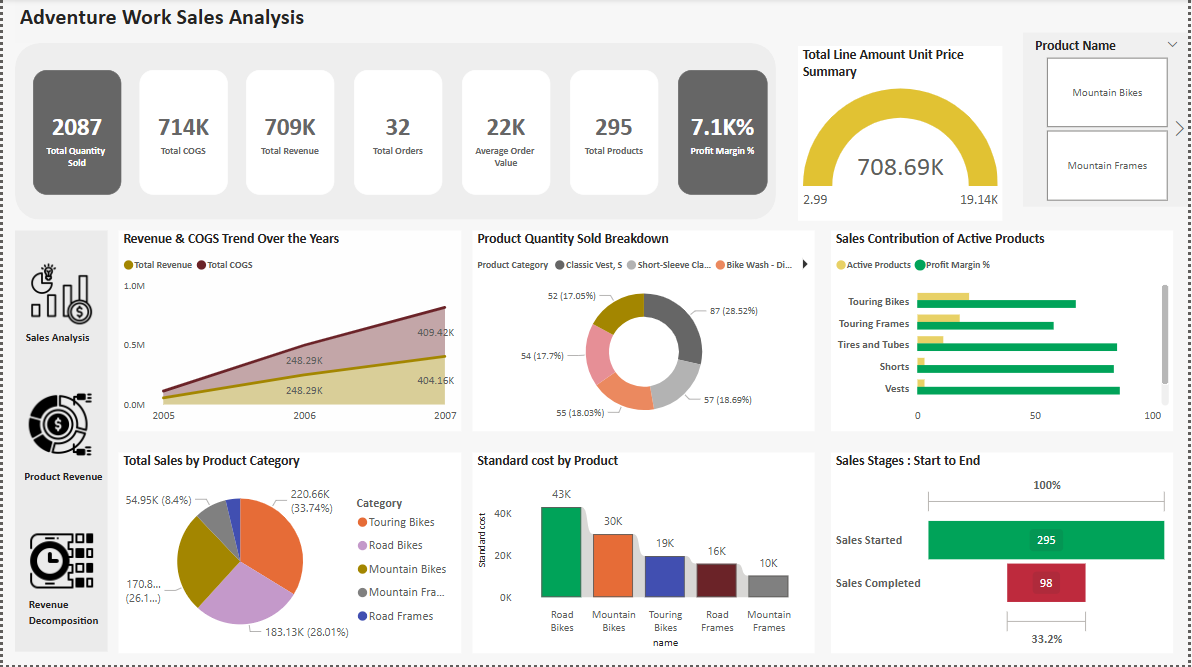

The page's visual inventory and layout, read from the dashboard file:
{"tool":"powerbi","page":{"name":"Sales Analysis","canvas":[1280,720],"ordinal":0},"visuals":[{"type":"shape","box":[13.5,48.7,821.5,190.8],"z":0},{"type":"card","title":"Total Quantity Sold","fields":{"Values":["Sales Order Detail.Total Quantity Sold"]},"box":[32.6,77.9,95.3,134.9],"z":1000},{"type":"card","title":"Total Quantity Sold","fields":{"Values":["Sales Order Detail.Total COGS"]},"box":[146.6,78.3,95,134.5],"z":2000},{"type":"card","title":"Total Quantity Sold","fields":{"Values":["Sales Order Detail.Total Revenue"]},"box":[262.6,78.3,95.3,134.5],"z":3000},{"type":"card","title":"Total Quantity Sold","fields":{"Values":["Sales Order Detail.Total Orders"]},"box":[378.9,78.3,95.3,134.5],"z":4000},{"type":"card","title":"Total Quantity Sold","fields":{"Values":["Sales Order Detail.Average Order Value"]},"box":[495.3,78.3,95.3,134.5],"z":5000},{"type":"card","title":"Total Quantity Sold","fields":{"Values":["Sales Order Detail.Profit Margin %"]},"box":[727.9,77.9,96.5,134.9],"z":6000},{"type":"textbox","box":[13.5,0,393.8,48.7],"z":7000},{"type":"donutChart","title":"Product Quantity Sold Breakdown","fields":{"Category":["product.name"],"Y":["Sales Order Detail.Total Quantity Sold"]},"box":[506.2,251.7,369.5,216.5],"z":8000},{"type":"card","title":"Total Quantity Sold","fields":{"Values":["Sales Order Detail.Total Products"]},"box":[611.6,78.3,95.3,134.5],"z":9000},{"type":"stackedAreaChart","title":"Revenue & COGS Trend Over the Years","fields":{"Category":["product.sell_start_date.Variation.Date Hierarchy.Year","product.sell_start_date.Variation.Date Hierarchy.Month"],"Y":["Sales Order Detail.Total Revenue","Sales Order Detail.Total COGS"]},"box":[124.5,251.7,370,216.5],"z":10000},{"type":"columnChart","title":"Standard cost by Product","fields":{"Y":["Sum(product.standard_cost)"],"Category":["product category.name"]},"box":[506.2,489.9,369.5,216.5],"z":11000},{"type":"pieChart","title":"Total Sales by Product Category","fields":{"Category":["product category.name"],"Y":["Sum(Sales Order Detail.line_total)"]},"box":[124.5,489.9,370,216.5],"z":12000},{"type":"gauge","title":"Total Line Amount Unit Price Summary","fields":{"Y":["Sum(Sales Order Detail.line_total)"],"TargetValue":["Sum(Sales Order Detail.unit_price)"],"MinValue":["Min(Sales Order Detail.line_total)"],"MaxValue":["Max(Sales Order Detail.line_total)"]},"box":[857.6,51.8,220.6,188.5],"z":13000},{"type":"slicer","fields":{"Values":["product category.name"]},"box":[1100.3,37.9,180,188.1],"z":14000},{"type":"funnel","title":"Sales Stages : Start to End","fields":{"Y":["product.Sales Started","product.Sales Completed"]},"box":[893.2,489.9,369.5,216.5],"z":15000},{"type":"clusteredBarChart","title":"Sales Contribution of Active Products","fields":{"Category":["product category.name"],"Y":["Sales Order Detail.Active Products","Sales Order Detail.Profit Margin %"]},"box":[893.2,251.7,369.5,216.5],"z":16000},{"type":"shape","box":[13.5,251.7,100.1,454.7],"z":17000,"group":"g1"},{"type":"image","box":[23,281.5,81.2,78.5],"z":18000,"group":"g1"},{"type":"image","box":[21.6,422.2,81,78.5],"z":19000,"group":"g1"},{"type":"image","box":[23,569.7,81.2,78.5],"z":20000,"group":"g1"},{"type":"textbox","box":[20.3,350.5,104.2,40.6],"z":21000,"group":"g1"},{"type":"textbox","box":[17.6,500.7,124.5,40.6],"z":22000,"group":"g1"},{"type":"textbox","box":[23,638.8,104.2,67.7],"z":23000,"group":"g1"},{"type":"group","id":"g1","title":"Group 1","box":[13.5,251.7,128.6,454.7],"z":23001}]}

Visuals, with their boxes in screenshot pixels (x1, y1, x2, y2), scaled from the page's 1280x720 canvas onto the 1192x667 screenshot:
shape: region(13, 45, 778, 222)
"Total Quantity Sold" card: region(30, 72, 119, 197)
"Total Quantity Sold" card: region(137, 73, 225, 197)
"Total Quantity Sold" card: region(245, 73, 333, 197)
"Total Quantity Sold" card: region(353, 73, 442, 197)
"Total Quantity Sold" card: region(461, 73, 550, 197)
"Total Quantity Sold" card: region(678, 72, 768, 197)
textbox: region(13, 0, 379, 45)
"Product Quantity Sold Breakdown" donutChart: region(471, 233, 815, 434)
"Total Quantity Sold" card: region(570, 73, 658, 197)
"Revenue & COGS Trend Over the Years" stackedAreaChart: region(116, 233, 461, 434)
"Standard cost by Product" columnChart: region(471, 454, 815, 654)
"Total Sales by Product Category" pieChart: region(116, 454, 461, 654)
"Total Line Amount Unit Price Summary" gauge: region(799, 48, 1004, 223)
slicer - product category.name: region(1025, 35, 1191, 209)
"Sales Stages : Start to End" funnel: region(832, 454, 1176, 654)
"Sales Contribution of Active Products" clusteredBarChart: region(832, 233, 1176, 434)
shape: region(13, 233, 106, 654)
image: region(21, 261, 97, 334)
image: region(20, 391, 96, 464)
image: region(21, 528, 97, 600)
textbox: region(19, 325, 116, 362)
textbox: region(16, 464, 132, 501)
textbox: region(21, 592, 118, 654)
"Group 1" group: region(13, 233, 132, 654)
